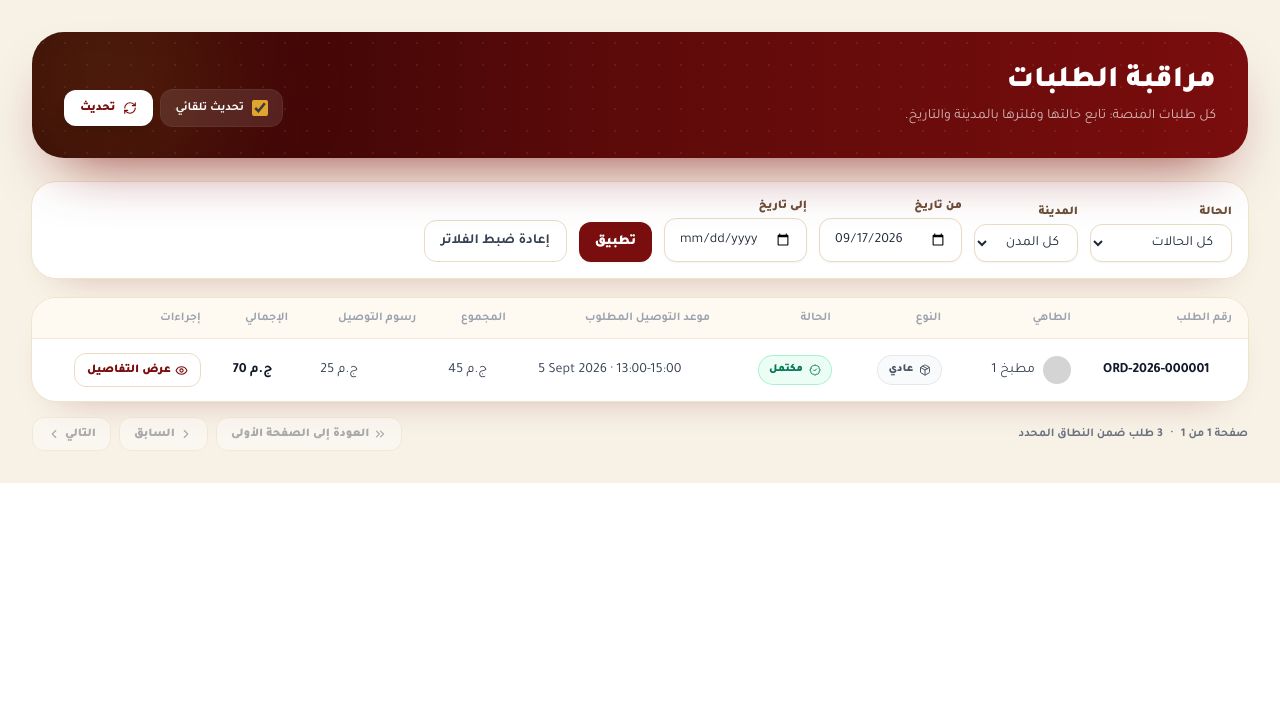
Test: US2 — filter by status, city, and placed-date range › AC8: a server 422 on a bad city surfaces a field message and does NOT replace the list
Expected: the text "ORD-2026-000001" is shown, [1087,338,1248,401]
Select "المعادي" in the dropdown labelled "المدينة" at (1026, 243), box [974,224,1078,262]
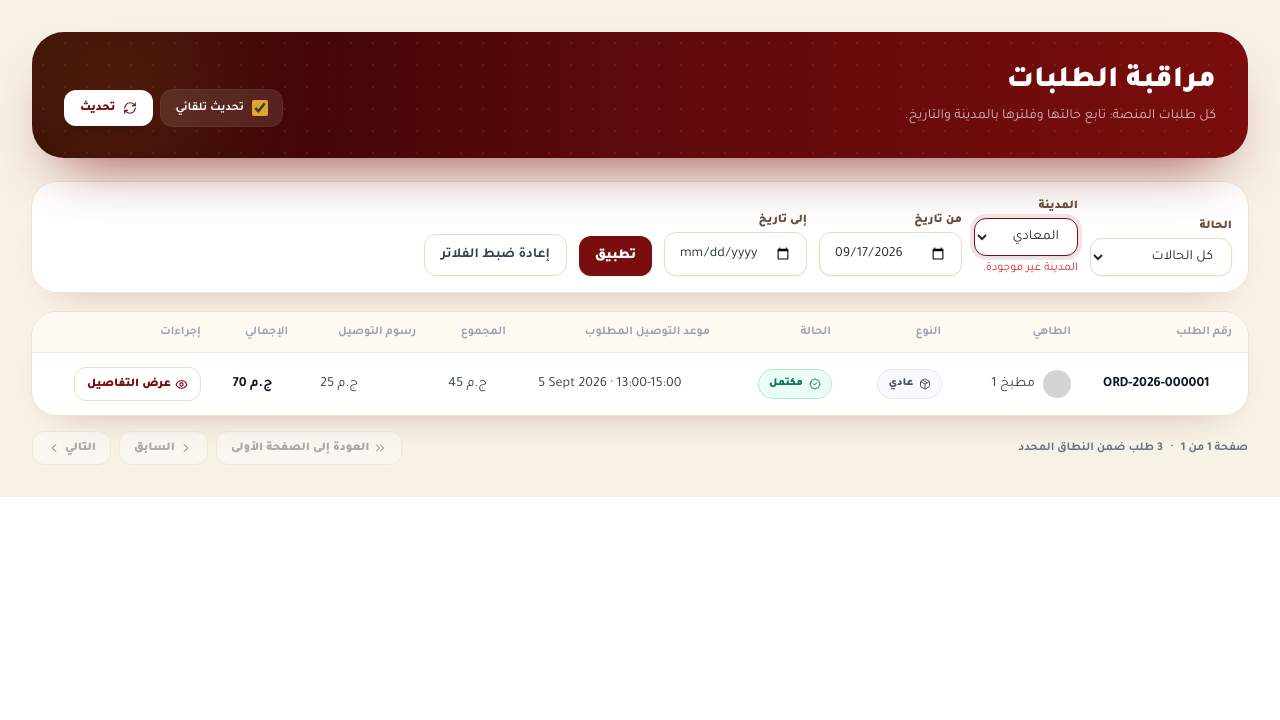
Expected: the text "ORD-2026-000001" is shown, [1087,352,1248,415]
Result: the text "المدينة غير موجودة." is shown at [974,260,1078,276]
